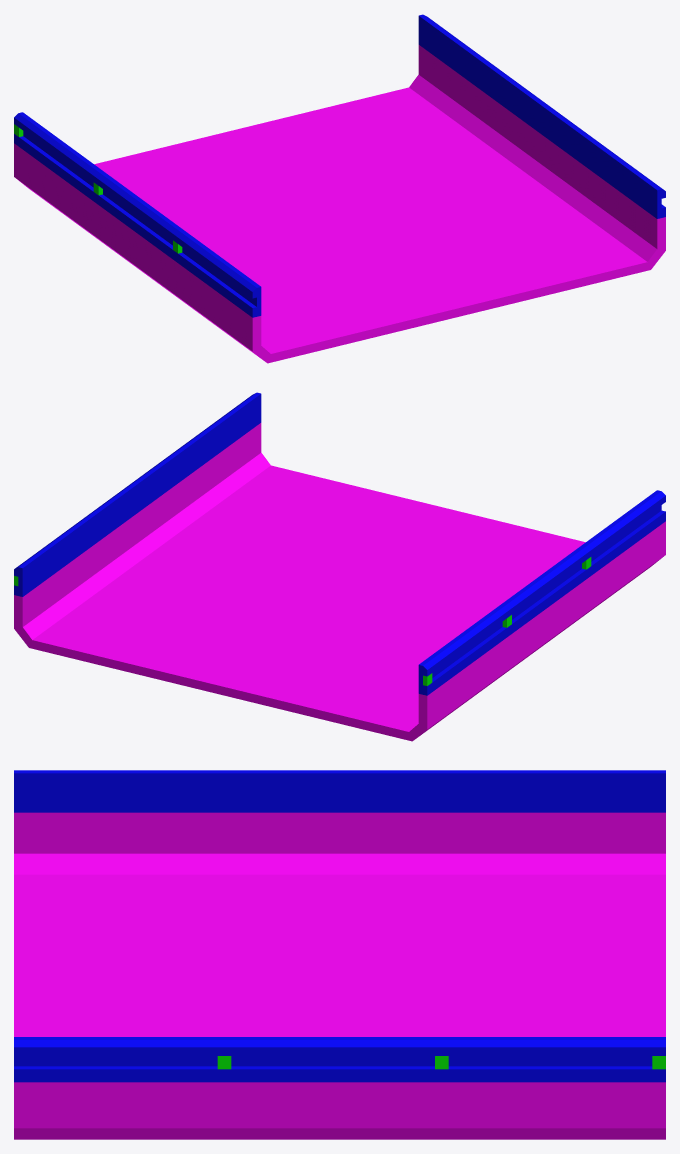
Rendered from int_boat_track_mock.fbx.
3 renders of one model, top to bottom at view 1: azimuth 30°, elevation 25°; view 2: azimuth 150°, elevation 25°; view 3: azimuth 270°, elevation 25°, orthographic. The views are drawn at different scales.
Visible parts, largest first — view 1: int_boat_track_mock; view 2: int_boat_track_mock; view 3: int_boat_track_mock.
Part boxes in pixels (box(x1,y1,x2,y2)): int_boat_track_mock: box(14, 14, 665, 363); int_boat_track_mock: box(14, 392, 665, 741); int_boat_track_mock: box(14, 770, 665, 1139).
Bounding box in the file's own units: 1 × 0.1808 × 1.
